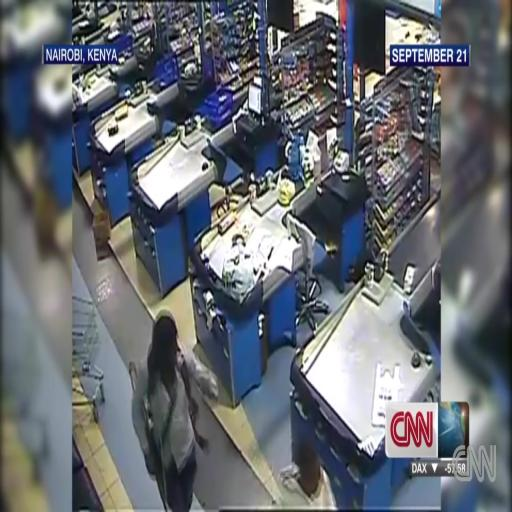Guns: (141, 411, 167, 507)
